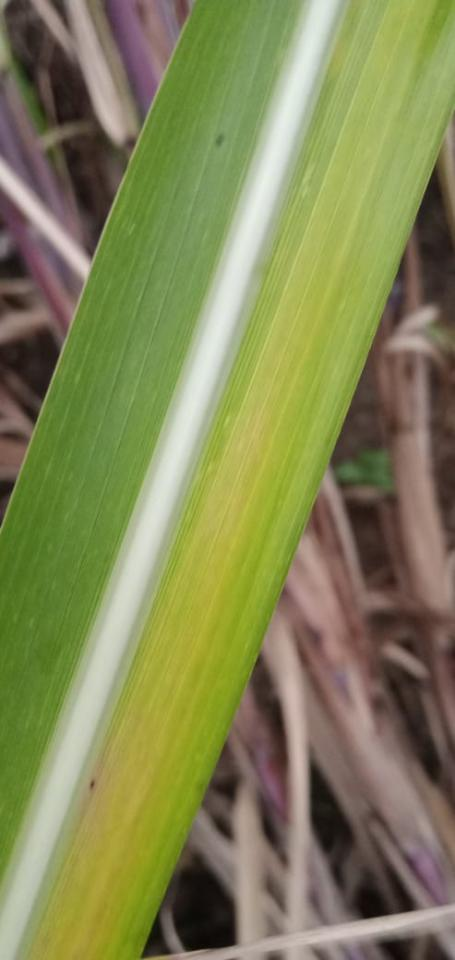Rust: (212, 131, 228, 148), (88, 779, 97, 792)
Yellow: (25, 702, 190, 959)
